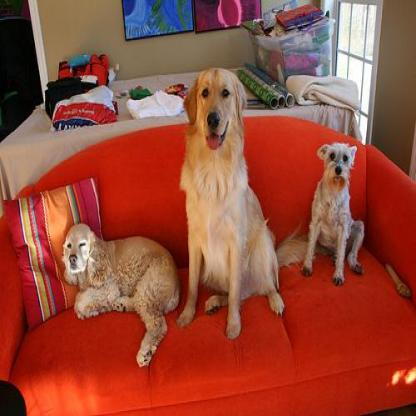cocker_spaniel: (59, 221, 179, 365)
